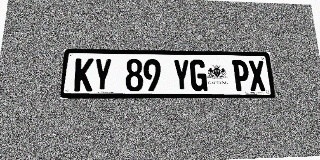8: (125, 59, 143, 91)
9: (144, 59, 161, 91)
G: (190, 60, 207, 91)
K: (74, 58, 94, 91)
P: (232, 60, 250, 91)
X: (248, 60, 266, 91)
Y: (93, 58, 112, 91), (173, 59, 190, 91)
